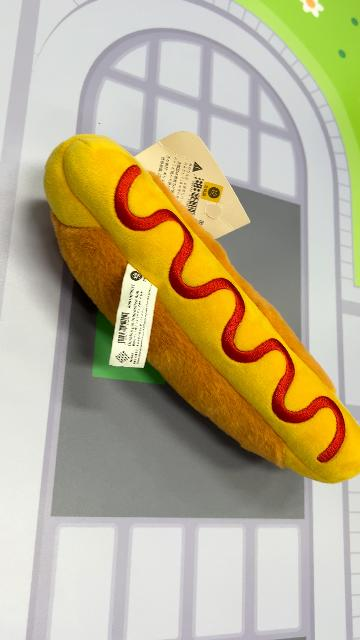hotdog: (44, 132, 358, 486)
